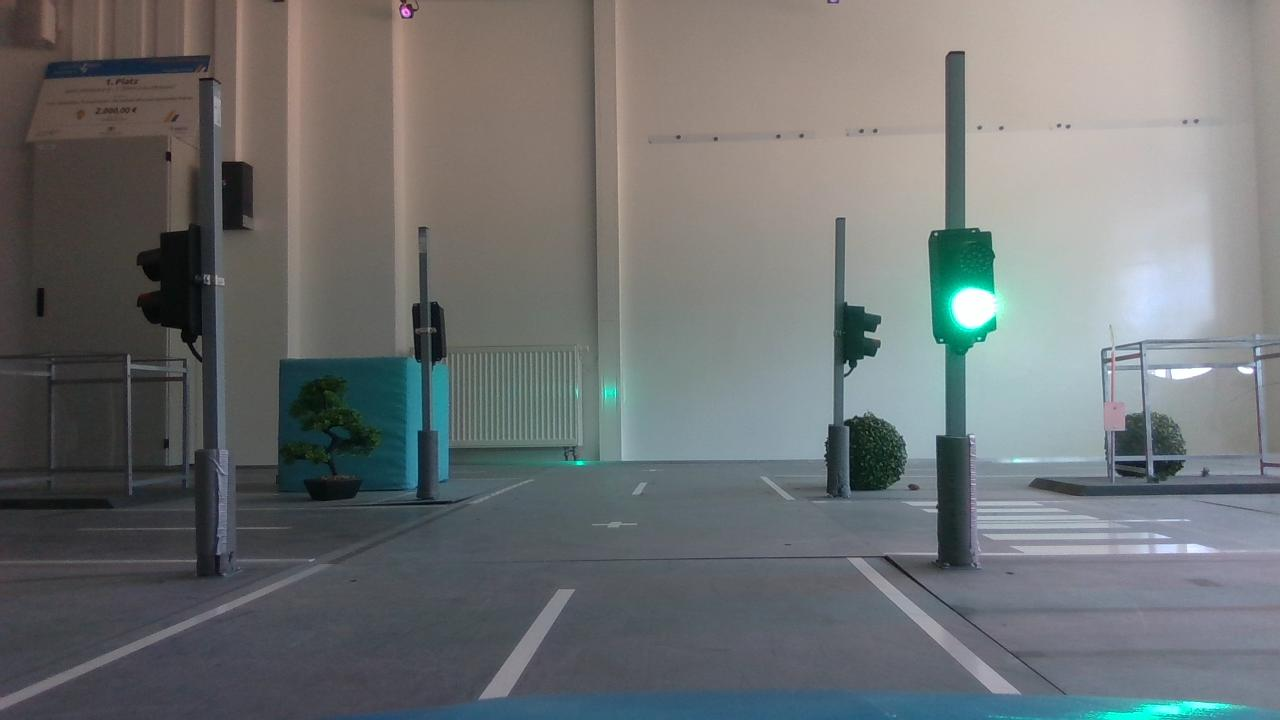traffic_light_green: (918, 219, 1011, 354)
